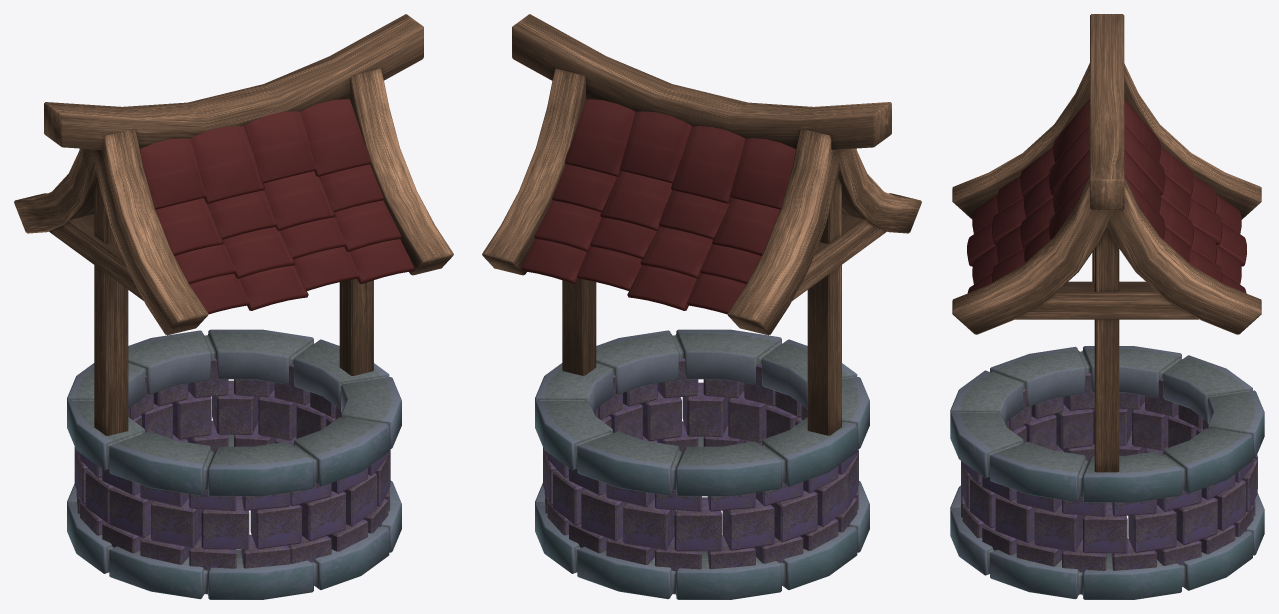
The model's file is well.fbx.
3 renders of one model, left to right at view 1: azimuth 30°, elevation 25°; view 2: azimuth 150°, elevation 25°; view 3: azimuth 270°, elevation 25°, orthographic. The views are drawn at different scales.
Visible parts, largest first — view 1: Well; view 2: Well; view 3: Well.
Boxes of the visible parts, x1,y1,x2,y2 form: Well: (14, 14, 453, 599); Well: (482, 14, 921, 599); Well: (950, 14, 1264, 599).
Bounding box in the file's own units: 400 × 491 × 319.
Materials: 1 (1 with a texture image).
